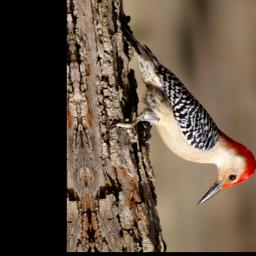Woodpecker: (97, 14, 256, 212)
